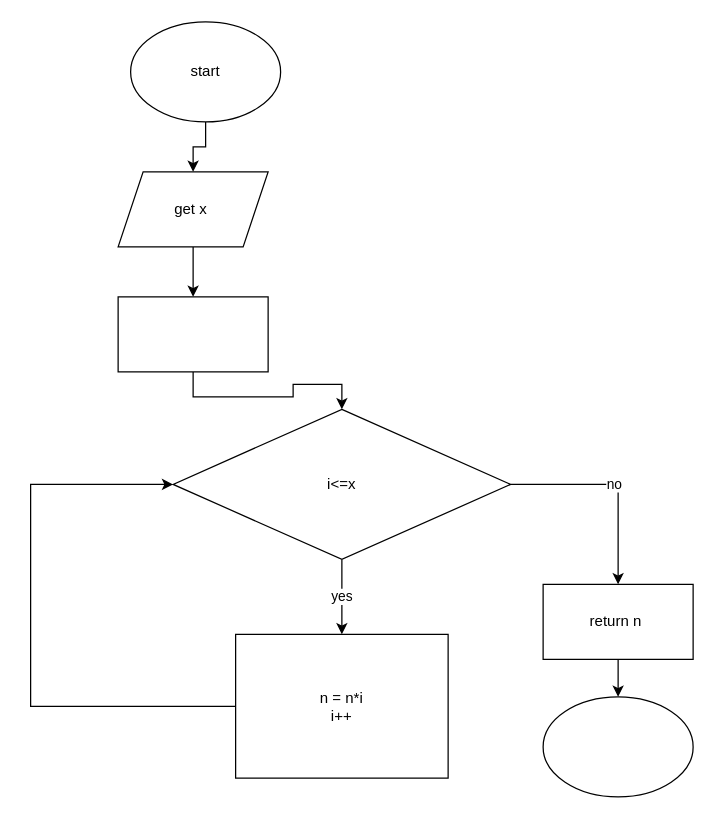
Image size: 715x819. Some labels were removed from this diagram. Each missing label, with the box of its shape:
create int i and n i = 1 and n = 1: (117, 296, 268, 372)
end: (542, 696, 693, 797)
